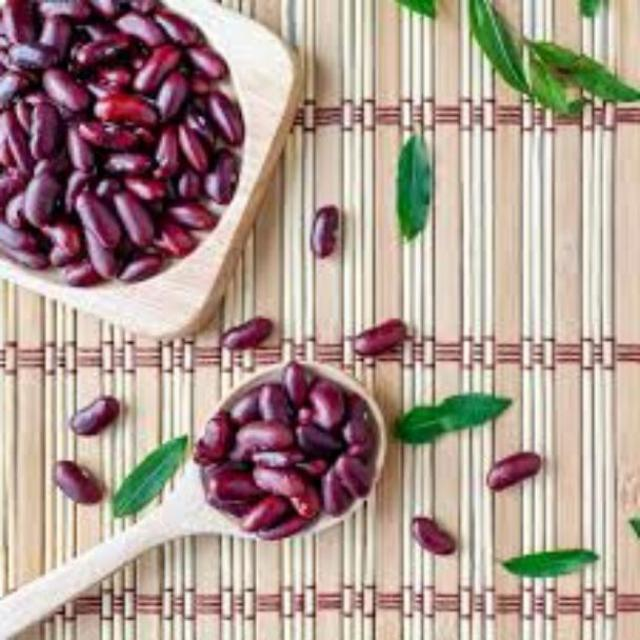fasol: (0, 0, 268, 280), (192, 358, 392, 542), (342, 306, 420, 368), (477, 444, 550, 503), (60, 386, 124, 446), (44, 452, 114, 506), (212, 312, 285, 360), (402, 500, 463, 554), (304, 199, 340, 279)
